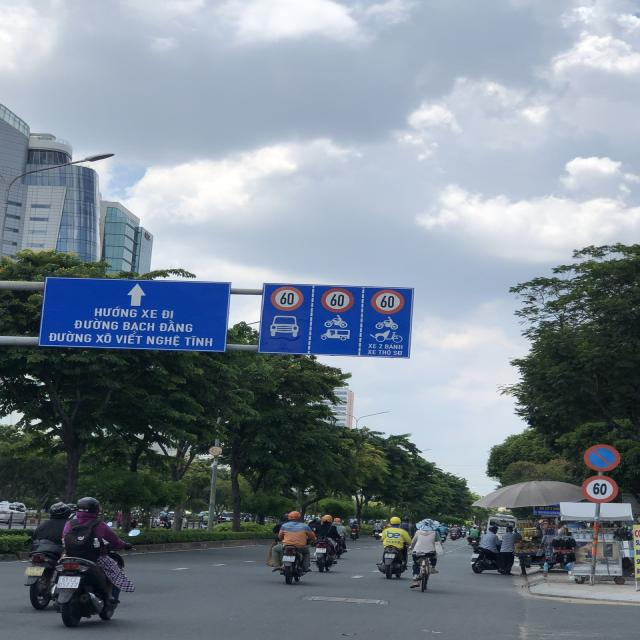Bien bao cam do xe: (582, 441, 621, 474)
Bien bao toc do toi da cho phep: (581, 472, 623, 506), (319, 284, 356, 316), (369, 286, 408, 316), (270, 284, 304, 313)
